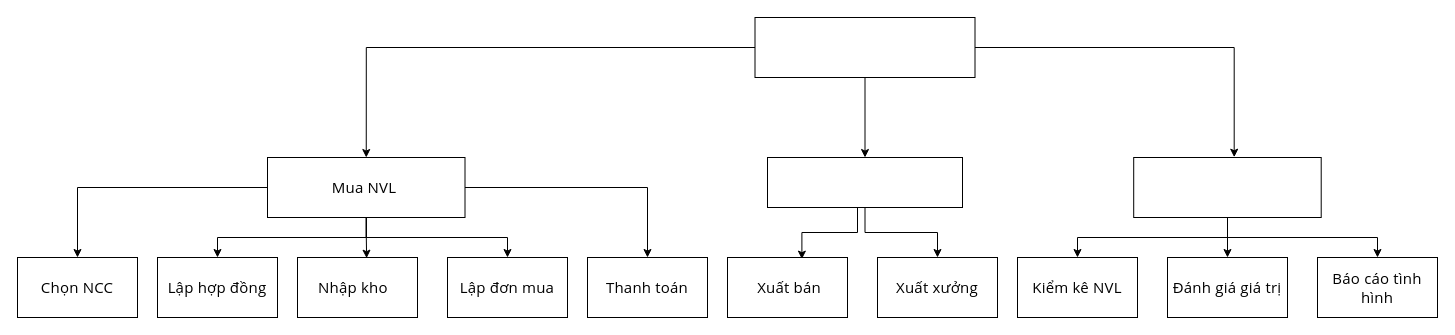
Some shapes in this 1455 by 335 pixel diagram are drawn without their labels. Here are the shapes that lost their labels. From the top down, the box of each, then its label:
(754, 16, 975, 78): Quản lý Vật tư
(766, 156, 962, 208): Xuất NVL
(1133, 156, 1321, 218): Báo cáo tổng kết
